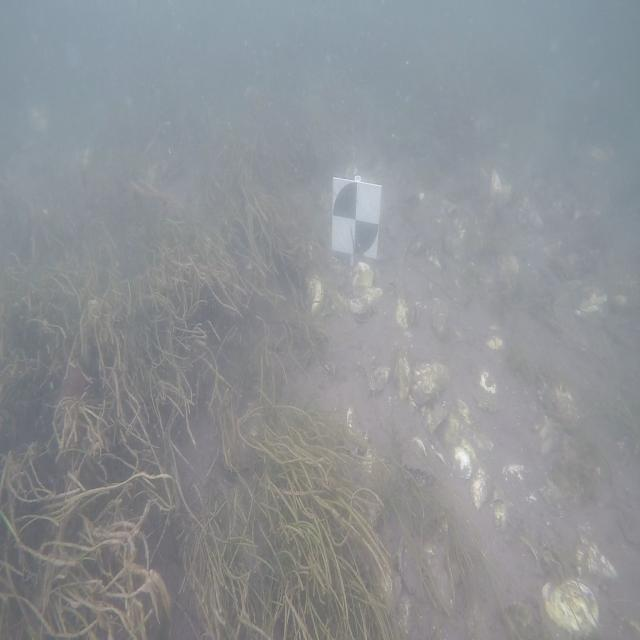Oyster- Indeterminate: (476, 371, 498, 411), (346, 407, 368, 444), (362, 447, 375, 473)
Oyster-Closed: (542, 580, 599, 636), (411, 362, 449, 404), (351, 262, 381, 301), (349, 287, 382, 322), (305, 271, 325, 318), (394, 347, 410, 400), (421, 404, 448, 433), (439, 413, 460, 447), (395, 298, 418, 329), (471, 469, 488, 509), (454, 447, 472, 478), (486, 324, 504, 351), (456, 398, 472, 427), (472, 431, 492, 451)
Oyster-Open: (391, 536, 424, 636), (402, 438, 432, 478), (368, 367, 390, 393)
